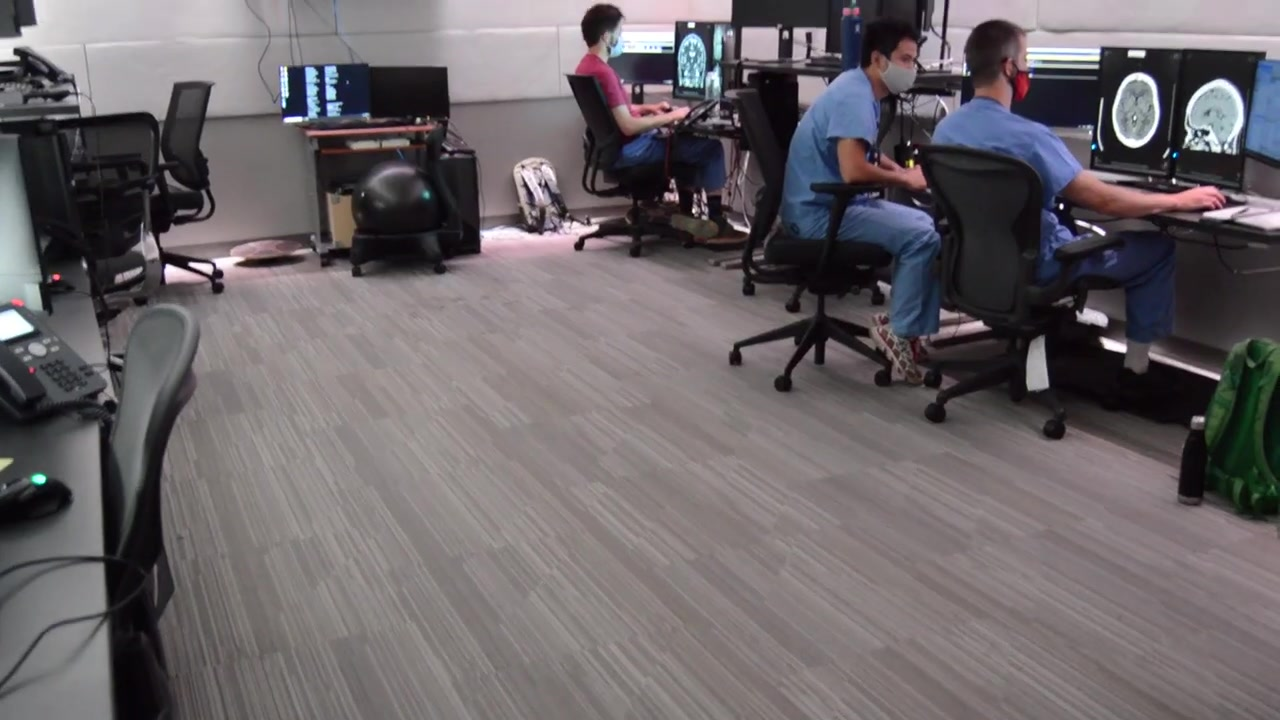chair: (913, 143, 1125, 437), (735, 72, 892, 388), (103, 305, 200, 720), (563, 75, 690, 257), (19, 110, 158, 262), (159, 79, 227, 293), (346, 158, 450, 277)
computer: (1174, 47, 1258, 188), (963, 60, 1099, 135), (1101, 46, 1175, 177), (279, 63, 371, 126), (370, 64, 450, 119), (672, 21, 721, 104), (1245, 58, 1280, 169), (607, 32, 674, 85)
countertop: (1065, 204, 1280, 245)
keyboard: (442, 130, 476, 155)
mouse: (1, 476, 72, 523), (43, 274, 71, 297)
staff: (931, 19, 1241, 435), (780, 18, 941, 383), (575, 1, 745, 246)
table: (303, 125, 480, 260)
telephone: (1, 298, 108, 422)
